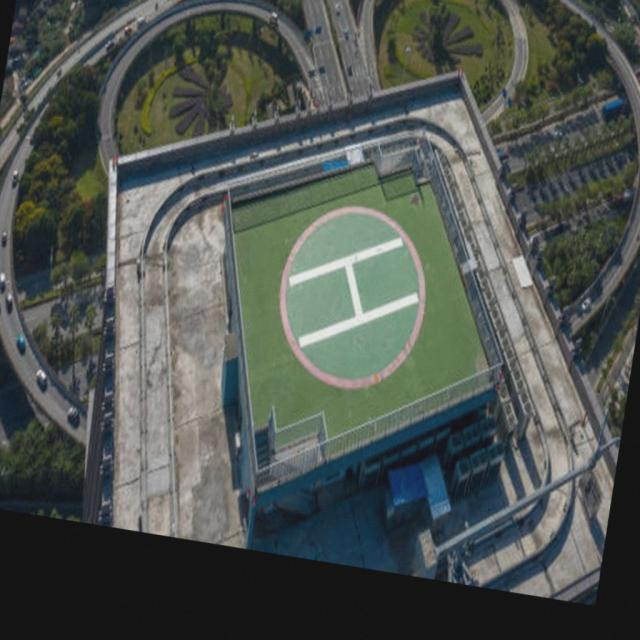helipad: (275, 200, 429, 394)
